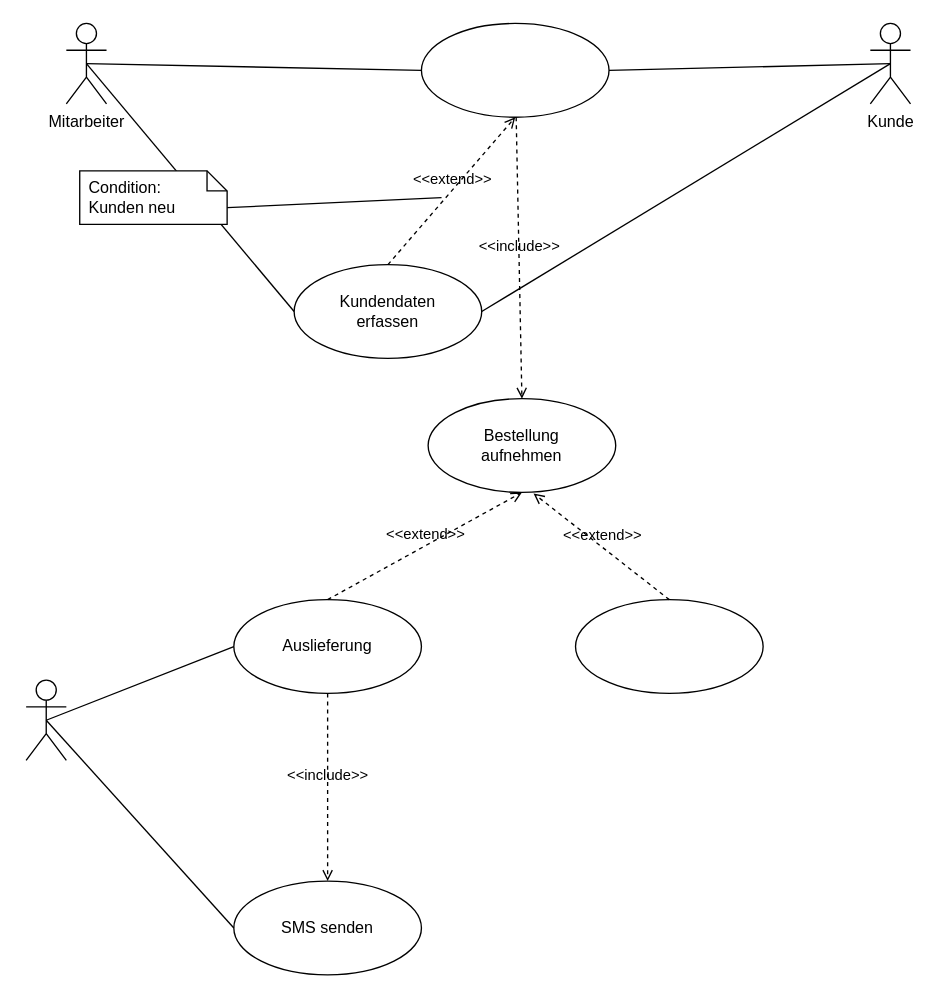
The diagram is 937 pixels wide and 998 high, and some of its shapes have lost their labels. Each missing label, with the centre of its shape:
"Bestellanruf" belongs at [514,69].
"Fahrer" belongs at [45,719].
"Selbstabholung" belongs at [668,645].
